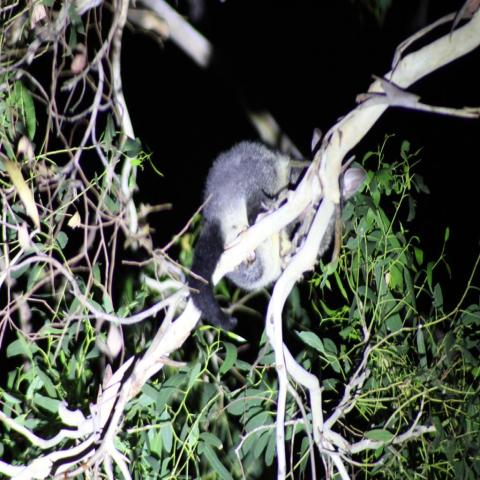small_animal: (185, 138, 368, 334)
